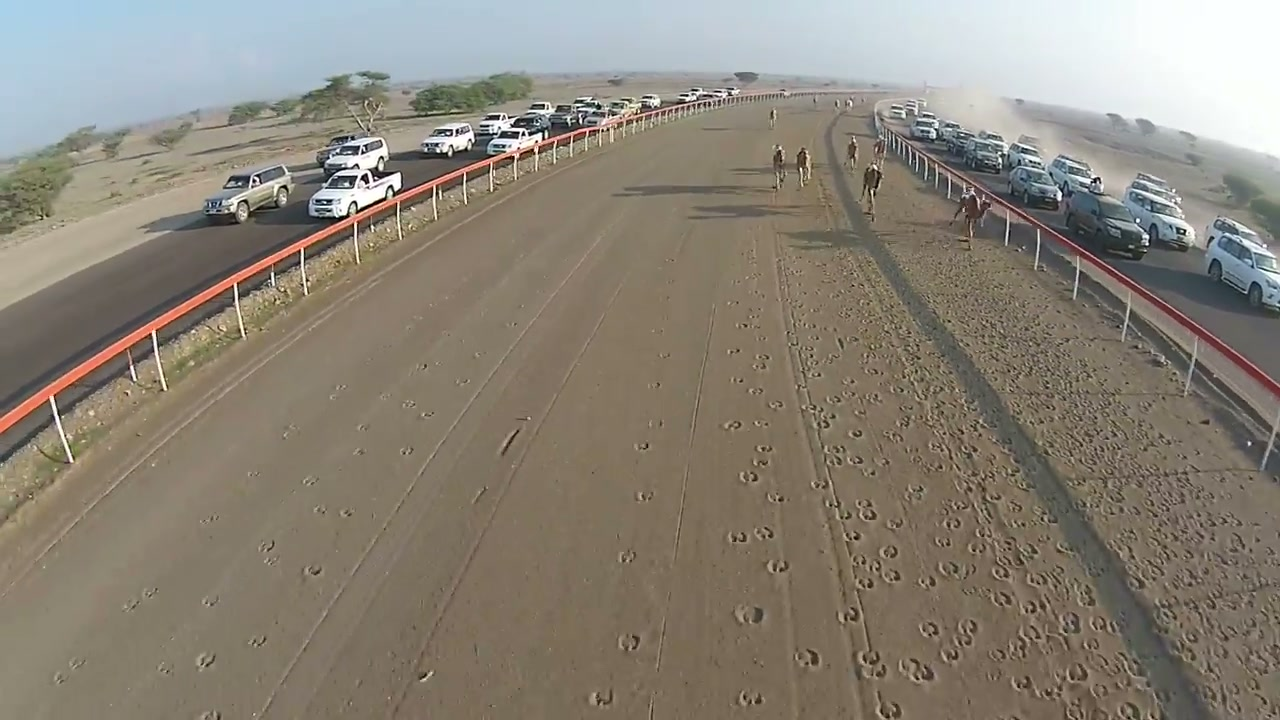animal_foot_print: (953, 481, 1004, 505), (899, 657, 935, 683), (122, 586, 157, 612), (856, 650, 887, 679), (53, 656, 85, 684), (936, 561, 975, 580), (1063, 697, 1094, 719), (1017, 622, 1046, 645), (850, 553, 884, 572), (733, 604, 765, 624), (855, 662, 887, 680), (1155, 601, 1179, 625), (877, 697, 902, 719), (1064, 662, 1089, 684), (1059, 611, 1082, 634), (1090, 615, 1117, 634), (794, 649, 821, 668), (799, 352, 820, 376), (588, 689, 614, 708), (989, 590, 1015, 608), (1117, 701, 1143, 719), (838, 606, 862, 625), (939, 644, 961, 664), (1074, 587, 1096, 607), (791, 344, 816, 361), (738, 690, 763, 707), (955, 443, 979, 460), (618, 634, 640, 652), (957, 617, 979, 635), (1010, 675, 1033, 692), (1005, 514, 1031, 529), (856, 650, 880, 666), (991, 564, 1012, 582), (927, 441, 949, 458), (857, 505, 878, 522), (881, 568, 902, 585), (919, 621, 940, 638), (195, 652, 215, 669), (858, 463, 879, 479), (809, 415, 831, 430), (862, 391, 885, 405), (766, 559, 789, 573), (281, 423, 299, 440), (880, 544, 899, 560), (917, 574, 937, 589), (966, 540, 986, 555), (854, 576, 875, 590), (843, 530, 864, 544), (940, 517, 962, 530), (754, 526, 774, 540), (988, 648, 1008, 662), (739, 470, 759, 484), (1055, 541, 1075, 555), (121, 598, 140, 612), (617, 549, 636, 563), (1015, 678, 1034, 692), (248, 634, 267, 648), (156, 661, 173, 676), (329, 384, 346, 399), (823, 444, 846, 455), (800, 403, 823, 414), (727, 531, 748, 543), (884, 517, 903, 530), (303, 564, 322, 577), (833, 508, 852, 521), (749, 309, 761, 329), (844, 455, 865, 466), (766, 491, 785, 503), (197, 710, 222, 719), (934, 536, 952, 548), (635, 490, 653, 502), (823, 497, 841, 509), (786, 333, 801, 347), (721, 420, 742, 430), (199, 514, 218, 525), (142, 586, 158, 599), (202, 594, 218, 607), (263, 554, 279, 567), (258, 540, 274, 553), (414, 363, 437, 372), (811, 478, 828, 490), (863, 366, 883, 376), (846, 428, 864, 439), (804, 369, 823, 379), (301, 475, 317, 486), (753, 456, 769, 467), (825, 395, 844, 404), (647, 418, 664, 428), (768, 400, 785, 410), (752, 418, 769, 428), (752, 361, 769, 371), (634, 441, 650, 451), (313, 504, 327, 515), (756, 444, 771, 454), (747, 386, 763, 395), (401, 399, 416, 408), (419, 410, 434, 419), (339, 508, 354, 517), (455, 377, 469, 386), (400, 446, 414, 455), (828, 395, 843, 403), (730, 376, 745, 384), (352, 447, 366, 455), (647, 381, 661, 389), (800, 323, 818, 329), (356, 423, 369, 431), (246, 470, 260, 477), (379, 392, 391, 400), (731, 278, 743, 285), (735, 322, 749, 328), (727, 348, 740, 354), (473, 351, 484, 358), (664, 257, 676, 263), (658, 352, 670, 358), (757, 335, 767, 342)
